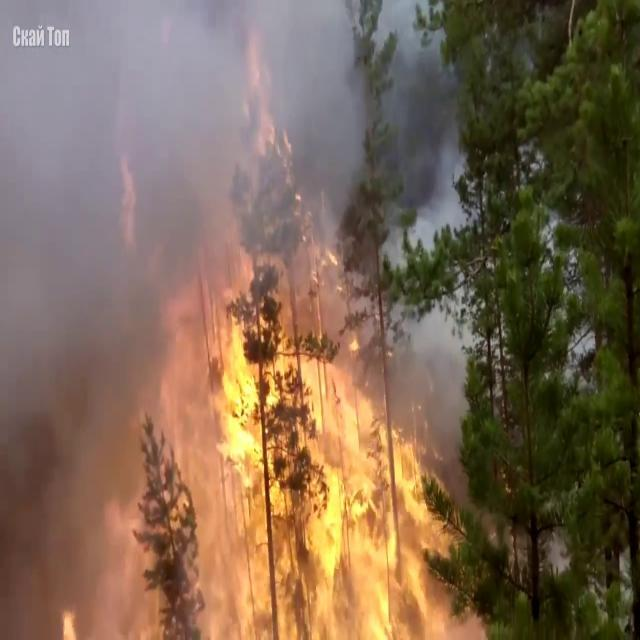Fire: (184, 248, 455, 632)
Smoke: (0, 1, 228, 623), (355, 82, 496, 470)
